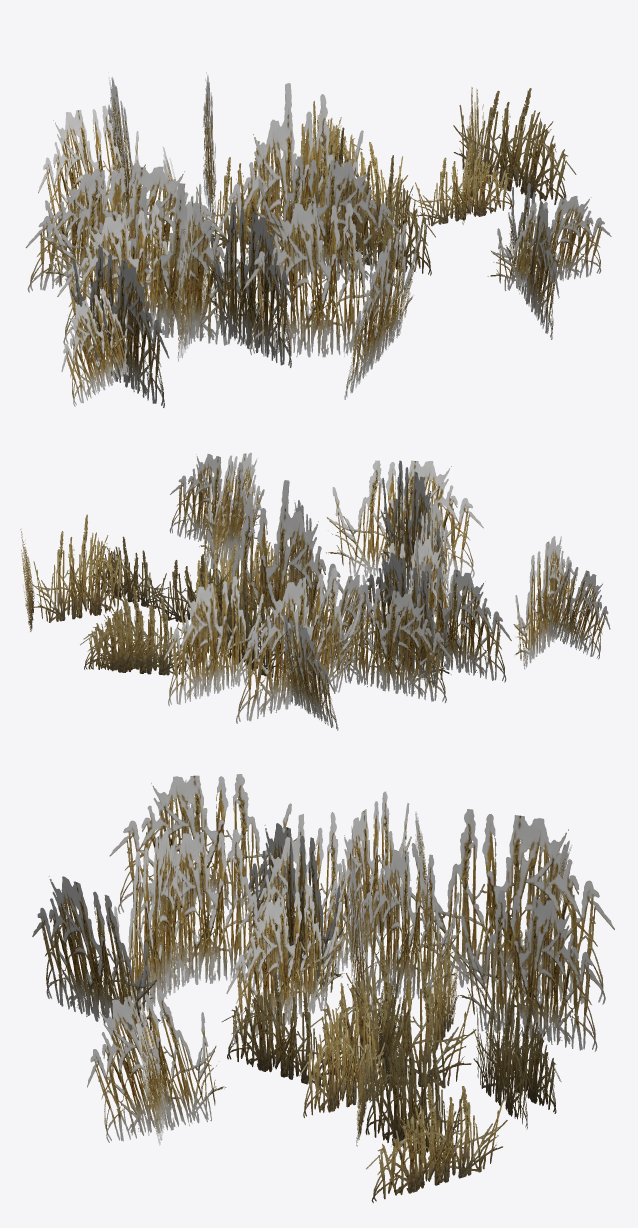
Rendered from DN_grass03b.FBX.
3 renders of one model, top to bottom at view 1: azimuth 30°, elevation 25°; view 2: azimuth 150°, elevation 25°; view 3: azimuth 270°, elevation 25°, orthographic. The views are drawn at different scales.
Visible parts, largest first — view 1: DN_grass03b; view 2: DN_grass03b; view 3: DN_grass03b.
Boxes of the visible parts, box(x1,y1,x2,y2) form: DN_grass03b: box(25, 72, 611, 407); DN_grass03b: box(20, 452, 610, 730); DN_grass03b: box(32, 774, 614, 1203).
Size of the model in its own units: 166 by 54.56 by 126.
2 materials, 2 textured.
